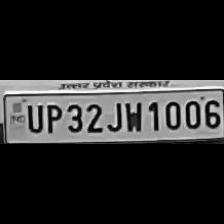0: (161, 98, 183, 130), (182, 97, 200, 129)
1: (143, 98, 161, 132)
2: (84, 100, 104, 132)
3: (63, 100, 83, 132)
6: (202, 96, 220, 128)
J: (104, 99, 122, 133)
P: (42, 102, 62, 134)
U: (23, 101, 43, 133)
W: (123, 97, 143, 132)
